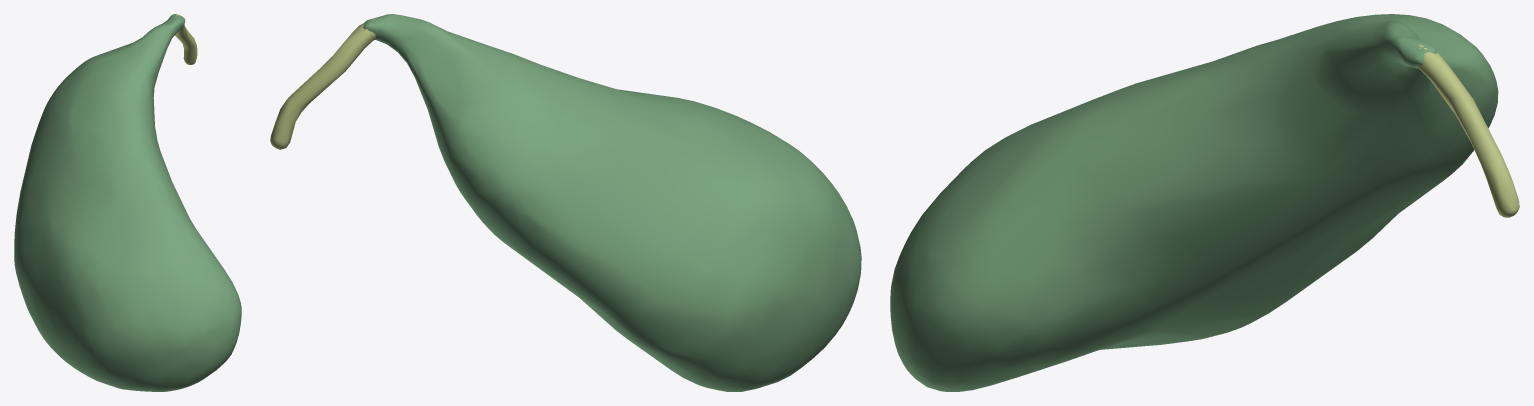
File: gallenblase-bp.glb
The picture shows the model from 3 angles, left to right: view 1: azimuth 30°, elevation 25°; view 2: azimuth 150°, elevation 25°; view 3: azimuth 270°, elevation 25°; orthographic projection. The views are drawn at different scales.
Parts seen in each view (by area): view 1: FJ2817 Gallbladder, FJ3080 Cystic duct; view 2: FJ2817 Gallbladder, FJ3080 Cystic duct; view 3: FJ2817 Gallbladder, FJ3080 Cystic duct.
Boxes of the visible parts, x1=… form: FJ2817 Gallbladder: x1=14, y1=14, x2=241, y2=391; FJ3080 Cystic duct: x1=175, y1=14, x2=197, y2=64; FJ2817 Gallbladder: x1=363, y1=14, x2=861, y2=391; FJ3080 Cystic duct: x1=270, y1=18, x2=376, y2=149; FJ2817 Gallbladder: x1=890, y1=14, x2=1498, y2=391; FJ3080 Cystic duct: x1=1416, y1=44, x2=1519, y2=217.
Size of the model in its own units: 2.88 by 2.74 by 3.4.
